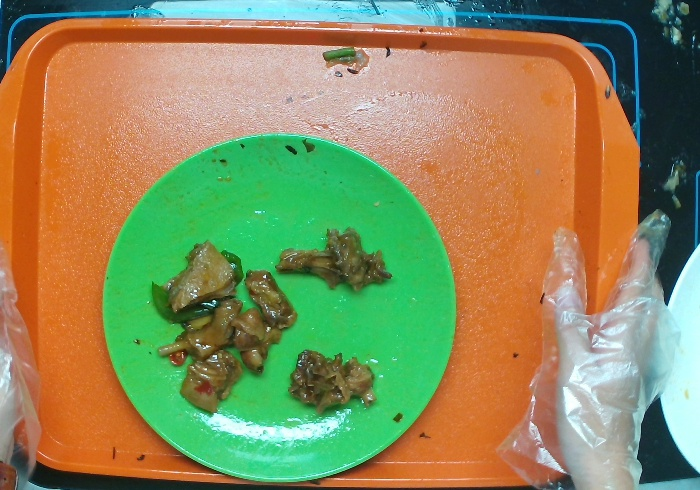HZYJPL-Lv_Se_Yuan_Pan: (90, 132, 460, 490)
